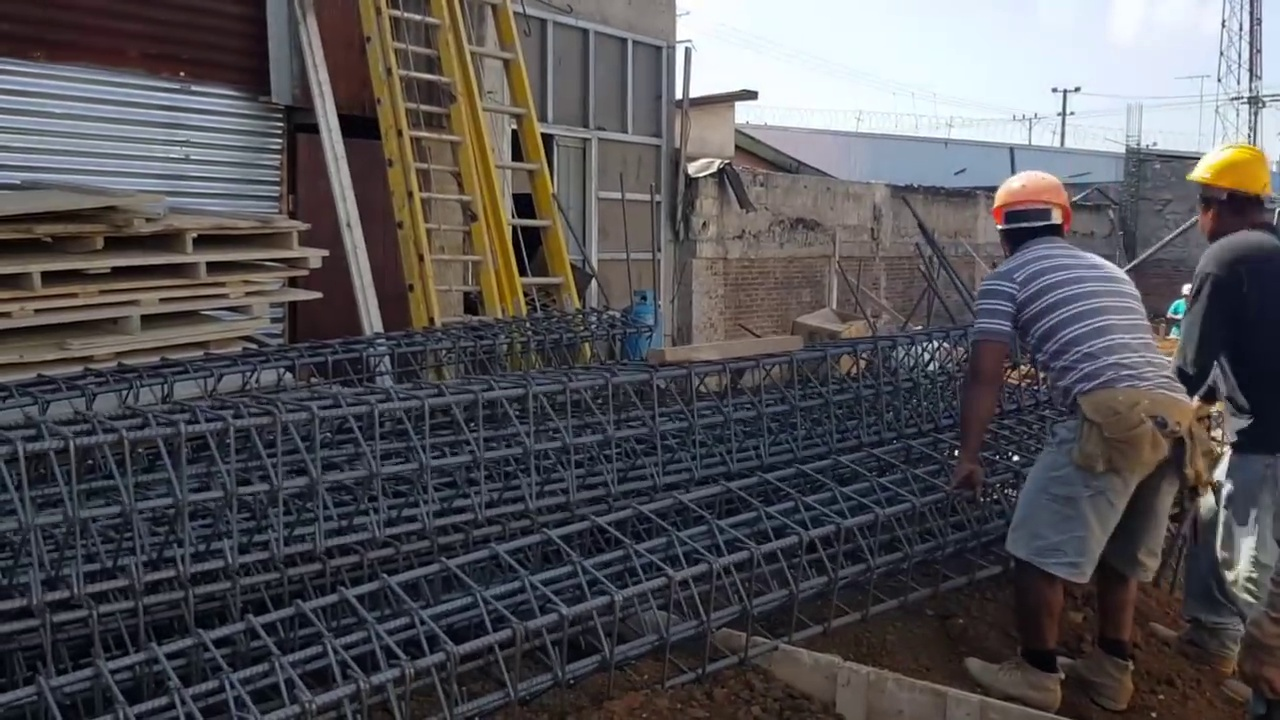helmet: (990, 170, 1070, 236), (1190, 141, 1276, 202), (1181, 284, 1193, 296)
helmet-on: (996, 166, 1087, 260), (1192, 145, 1280, 240), (1180, 284, 1194, 302)
person: (930, 173, 1201, 688), (1177, 136, 1277, 656), (1163, 284, 1194, 340)
